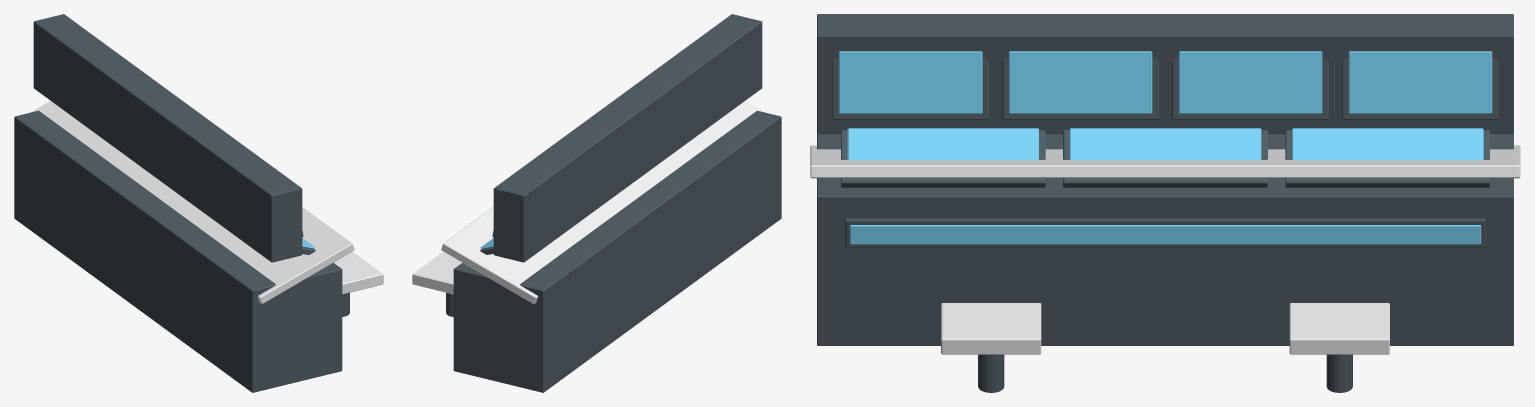
File: SM_Console_PitBank.fbx
3 views of the same model, side by side, from view 1: azimuth 30°, elevation 25°; view 2: azimuth 150°, elevation 25°; view 3: azimuth 270°, elevation 25° (orthographic). The views are drawn at different scales.
Parts seen in each view (by area): view 1: SM_Console_PitBank; view 2: SM_Console_PitBank; view 3: SM_Console_PitBank.
Boxes of the visible parts, bbox=[...] form: SM_Console_PitBank: bbox=[14, 14, 383, 392]; SM_Console_PitBank: bbox=[412, 14, 781, 392]; SM_Console_PitBank: bbox=[810, 14, 1520, 392].
Size of the model in its own units: 135 by 143 by 326.
